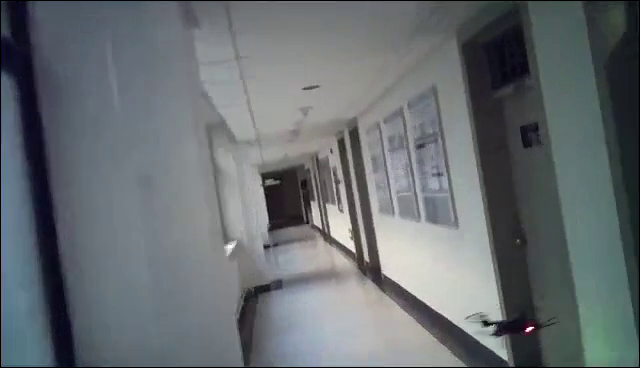drone: (459, 306, 563, 337)
